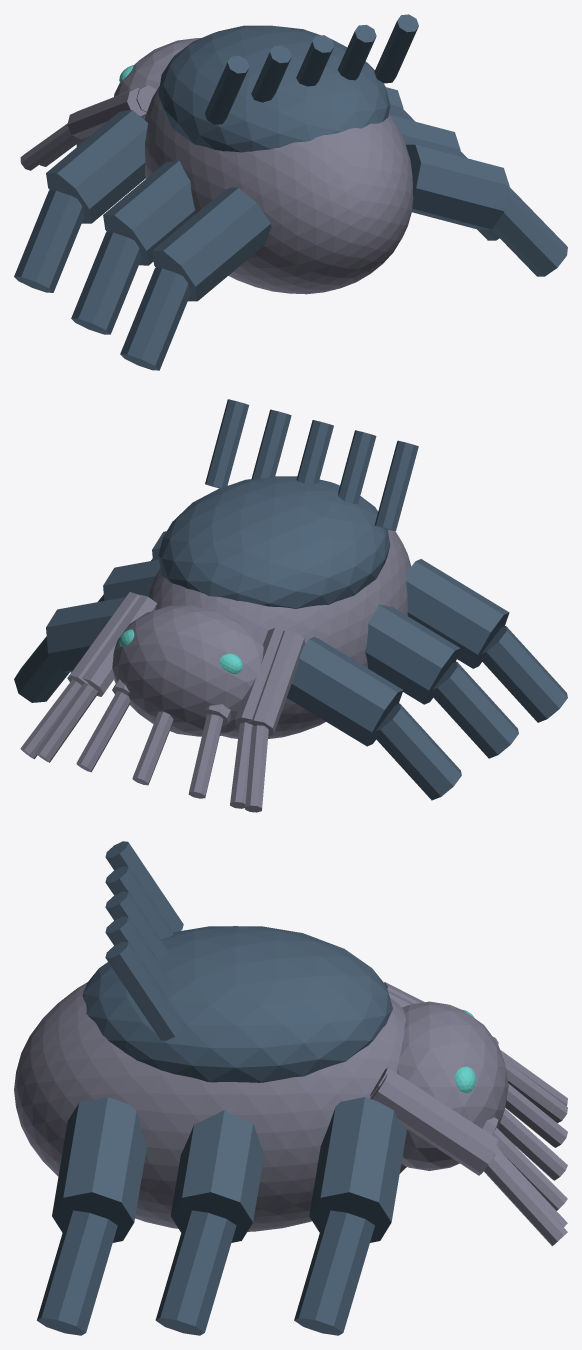
The model's file is abyss-tideborn.glb.
The picture shows the model from 3 angles, top to bottom: view 1: azimuth 30°, elevation 25°; view 2: azimuth 150°, elevation 25°; view 3: azimuth 270°, elevation 25°; orthographic projection. The views are drawn at different scales.
Visible parts, largest first — view 1: world; view 2: world; view 3: world.
Boxes of the visible parts, bbox=[...] form: world: bbox=[14, 14, 567, 370]; world: bbox=[14, 399, 567, 812]; world: bbox=[14, 841, 567, 1335].
Size of the model in its own units: 1.56 by 0.9094 by 1.4.
